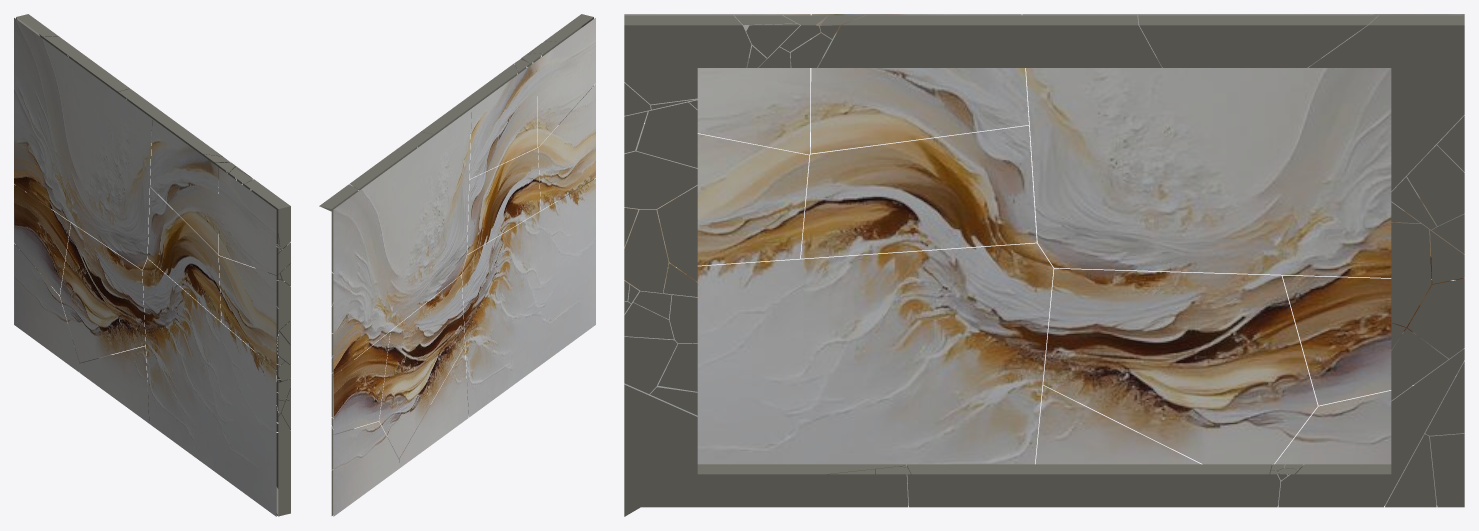
Rendered from painting_real.glb.
3 renders of one model, left to right at view 1: azimuth 30°, elevation 25°; view 2: azimuth 150°, elevation 25°; view 3: azimuth 270°, elevation 25°, orthographic. The views are drawn at different scales.
Parts seen in each view (by area): view 1: Plane.007_cell.002, Plane.007_cell.001, Plane.007_cell.003_cell.001, Plane.007_cell_cell.002, Plane.007_cell_cell.001, Plane.007_cell_cell.003, Plane.007_cell_cell, Plane.007_cell.003_cell, Plane.007_cell.003_cell.002, Plane.007_cell.003_cell.003, Plane.002_cell.004, Plane.002_cell.008 (+5 smaller); view 2: Plane.007_cell.002, Plane.007_cell.001, Plane.007_cell.003_cell.001, Plane.007_cell_cell.002, Plane.007_cell_cell.001, Plane.007_cell_cell.003, Plane.007_cell_cell, Plane.007_cell.003_cell, Plane.007_cell.003_cell.002, Plane.007_cell.003_cell.003, Plane.002_cell.004, Plane.002_cell.012 (+2 smaller); view 3: Plane.007_cell.002, Plane.007_cell.001, Plane.007_cell.003_cell.001, Plane.007_cell_cell.001, Plane.002_cell.008, Plane.002_cell.004, Plane.002_cell.005, Plane.007_cell_cell.002, Plane.007_cell_cell.003, Plane.002_cell.002, Plane.007_cell.003_cell.002, Plane.002_cell.012 (+24 smaller).
Part boxes in pixels (x1=…): Plane.007_cell.002: x1=14, y1=18, x2=152, y2=269; Plane.007_cell.001: x1=142, y1=259, x2=276, y2=516; Plane.007_cell.003_cell.001: x1=60, y1=223, x2=145, y2=362; Plane.007_cell_cell.002: x1=150, y1=119, x2=218, y2=253; Plane.007_cell_cell.001: x1=147, y1=187, x2=221, y2=321; Plane.007_cell_cell.003: x1=218, y1=256, x2=276, y2=369; Plane.007_cell_cell: x1=218, y1=167, x2=276, y2=275; Plane.007_cell.003_cell: x1=14, y1=243, x2=79, y2=372; Plane.007_cell.003_cell.002: x1=14, y1=184, x2=70, y2=295; Plane.007_cell.003_cell.003: x1=79, y1=346, x2=149, y2=423; Plane.002_cell.004: x1=118, y1=88, x2=226, y2=186; Plane.002_cell.008: x1=276, y1=414, x2=290, y2=516; Plane.007_cell.002: x1=333, y1=109, x2=471, y2=375; Plane.007_cell.001: x1=462, y1=178, x2=595, y2=417; Plane.007_cell.003_cell.001: x1=379, y1=275, x2=464, y2=458; Plane.007_cell_cell.002: x1=469, y1=60, x2=537, y2=178; Plane.007_cell_cell.001: x1=467, y1=148, x2=540, y2=254; Plane.007_cell_cell.003: x1=538, y1=84, x2=595, y2=210; Plane.007_cell_cell: x1=537, y1=18, x2=595, y2=147; Plane.007_cell.003_cell: x1=333, y1=421, x2=398, y2=516; Plane.007_cell.003_cell.002: x1=333, y1=332, x2=390, y2=434; Plane.007_cell.003_cell.003: x1=399, y1=346, x2=468, y2=468; Plane.002_cell.004: x1=417, y1=63, x2=518, y2=147; Plane.002_cell.012: x1=350, y1=132, x2=433, y2=190; Plane.007_cell.002: x1=1022, y1=14, x2=1464, y2=279; Plane.007_cell.001: x1=624, y1=243, x2=1053, y2=505; Plane.007_cell.003_cell.001: x1=1043, y1=268, x2=1317, y2=464; Plane.007_cell_cell.001: x1=801, y1=125, x2=1036, y2=258; Plane.002_cell.008: x1=624, y1=384, x2=908, y2=516; Plane.002_cell.004: x1=818, y1=15, x2=1161, y2=67; Plane.002_cell.005: x1=907, y1=464, x2=1280, y2=507; Plane.007_cell_cell.002: x1=810, y1=14, x2=1028, y2=153; Plane.007_cell_cell.003: x1=624, y1=123, x2=809, y2=267; Plane.002_cell.002: x1=1308, y1=15, x2=1464, y2=190; Plane.007_cell.003_cell.002: x1=1282, y1=275, x2=1464, y2=405; Plane.002_cell.012: x1=1138, y1=15, x2=1377, y2=67.
Bounding box in the file's own units: 0.1521 × 3.1 × 4.8.
Materials: 2 (1 with a texture image).
